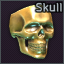Gold skull ring: (0, 0, 64, 64)
